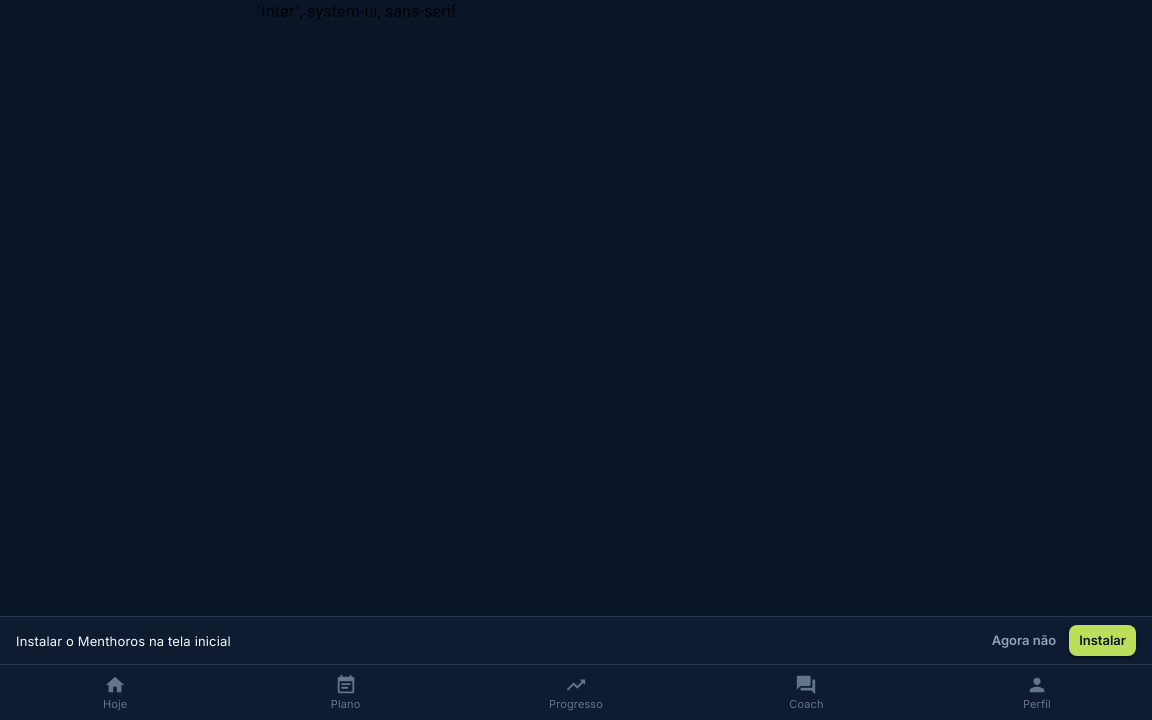
AthleteLayout — banner de instalação › "Agora não" some com o banner
The width and height of the screenshot is (1152, 720).
Click the button "Agora não" at [1024, 641], box [987, 625, 1061, 656]
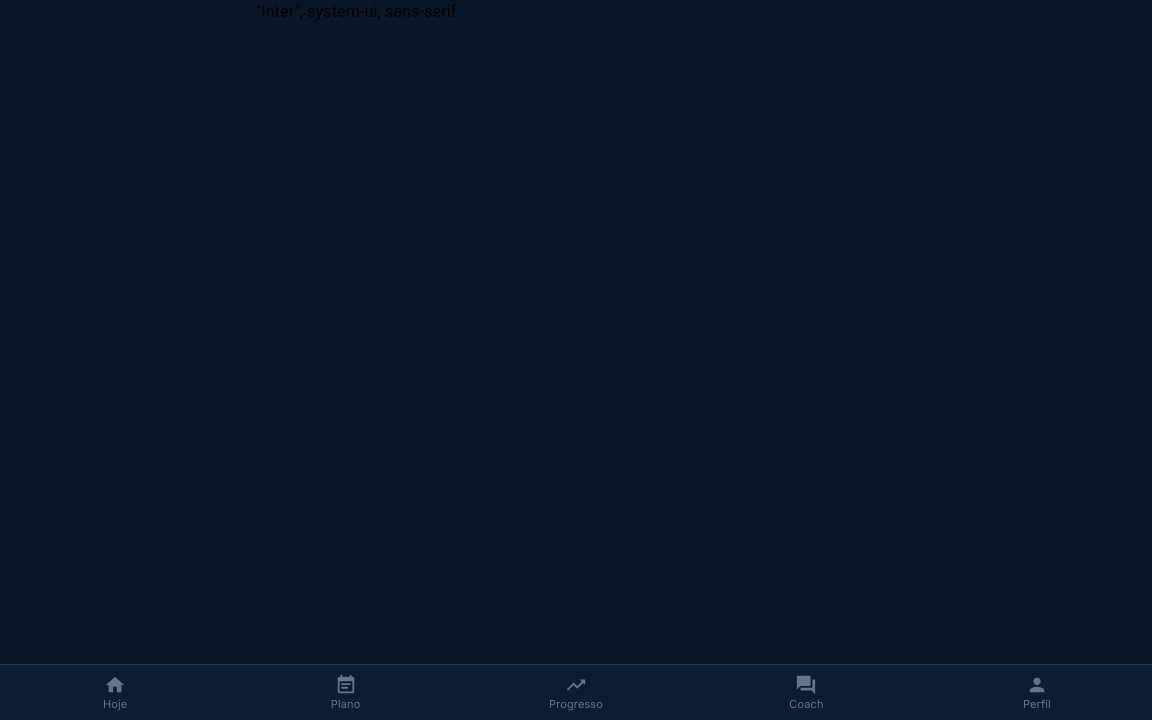
Check: the text "Instalar o Menthoros na tela inicial" is gone
